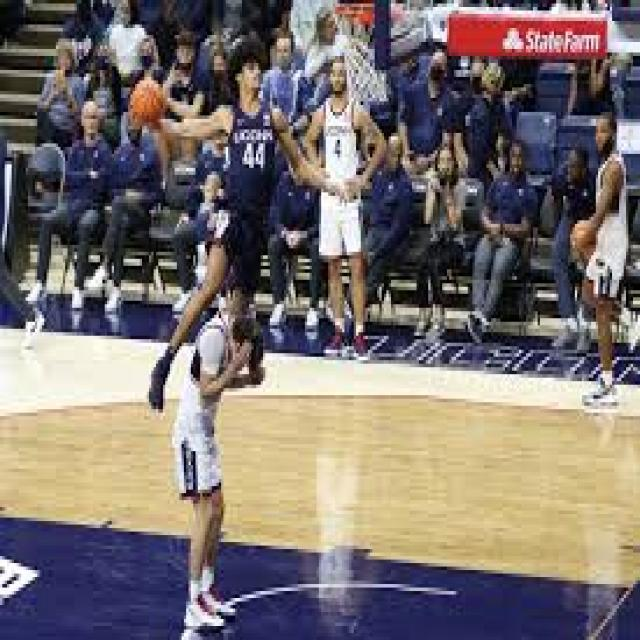rim: (233, 318, 263, 367)
